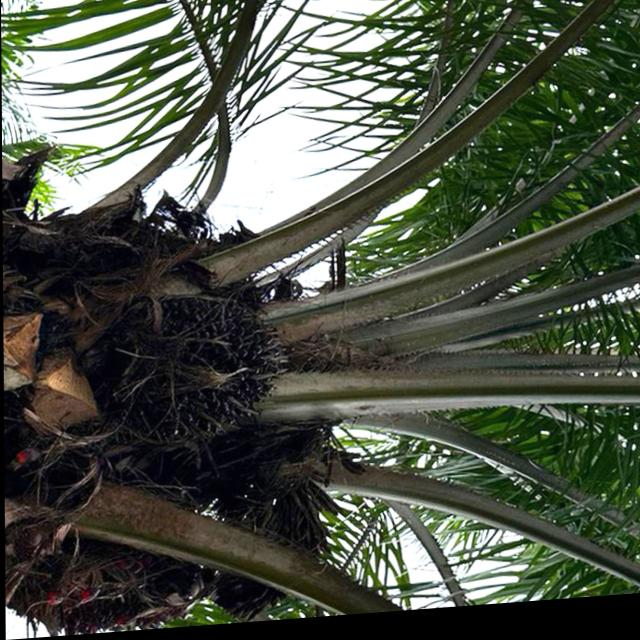almost: (104, 285, 299, 459)
